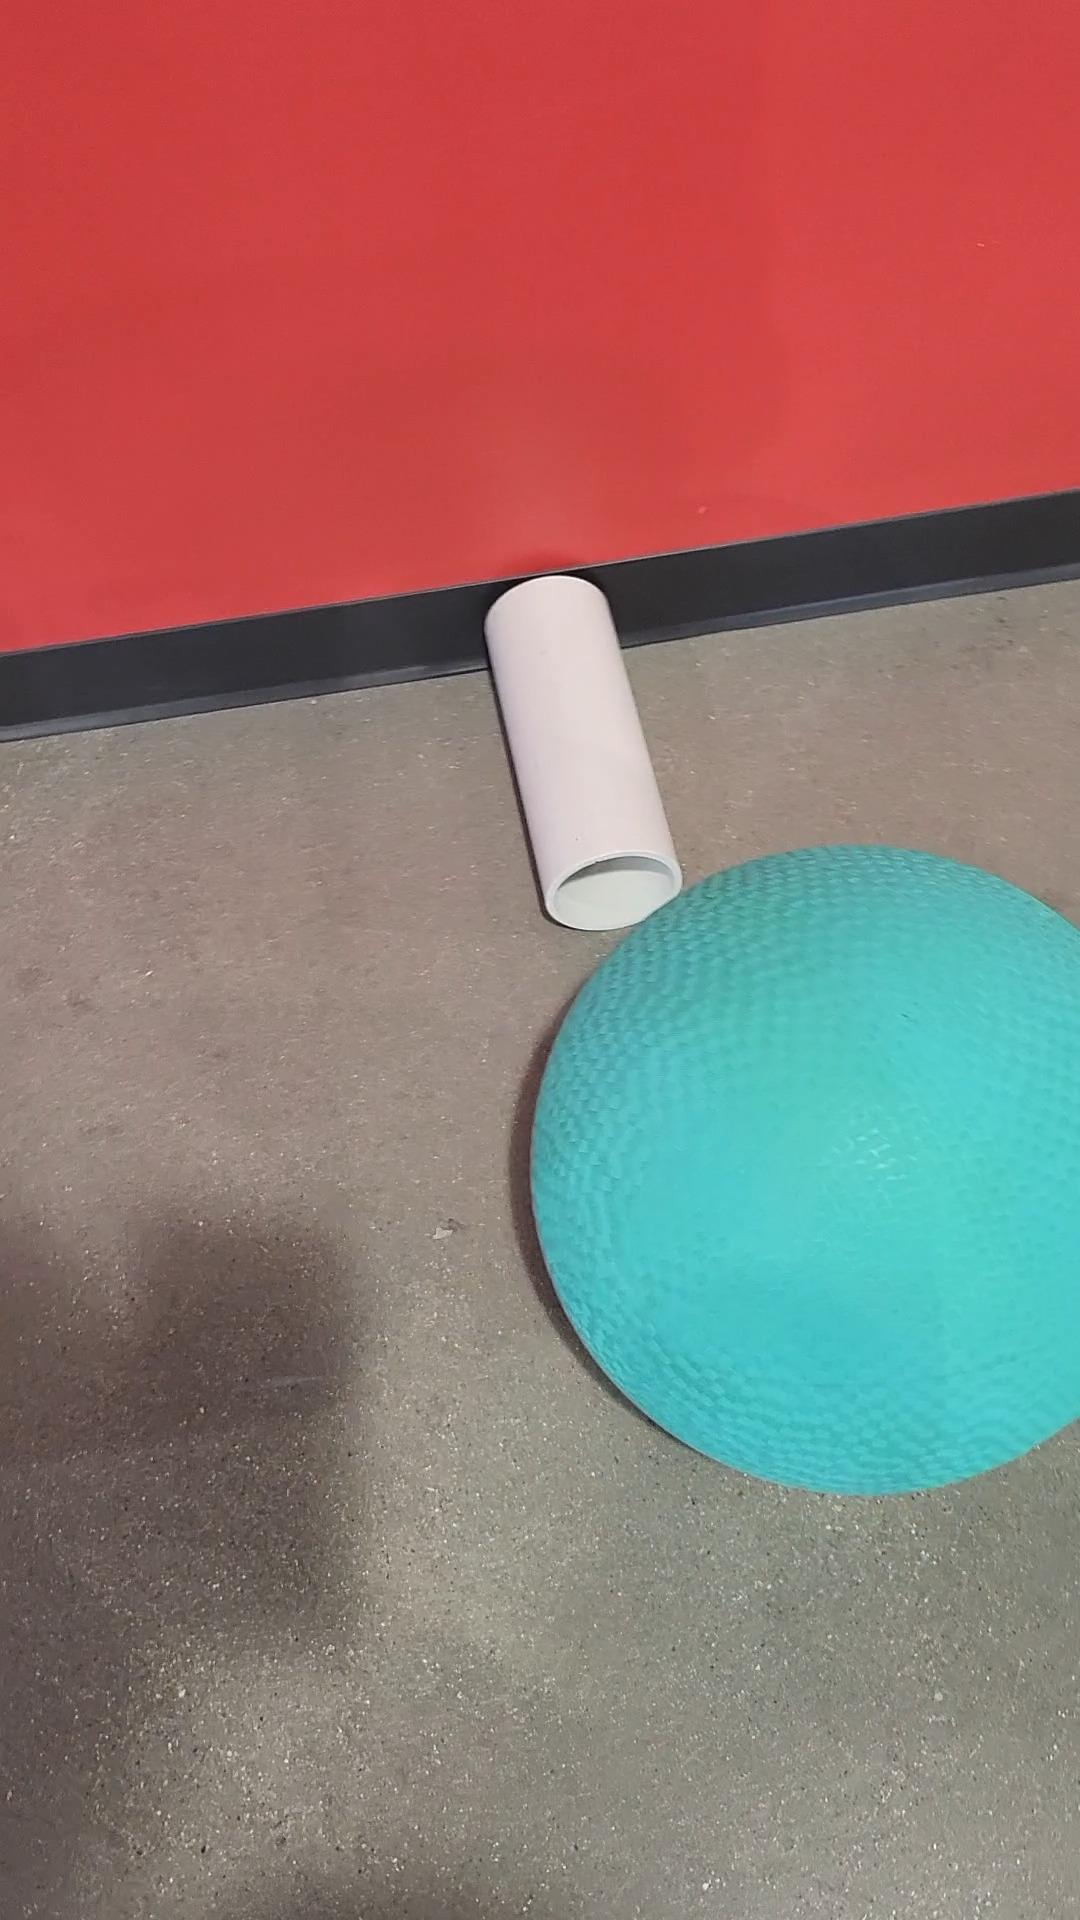algae: (516, 841, 1080, 1497)
coral: (471, 560, 707, 936)
